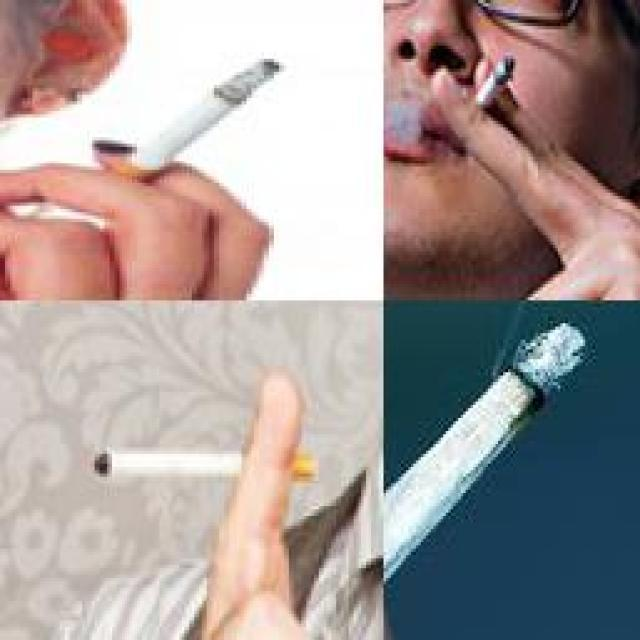smoking: (384, 316, 590, 636), (86, 56, 288, 206), (86, 442, 315, 478), (460, 54, 514, 132)
